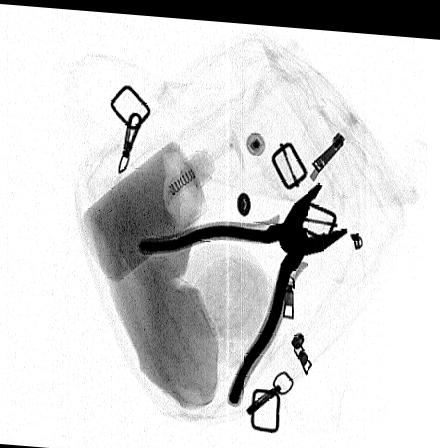Pliers: (133, 176, 348, 402)
